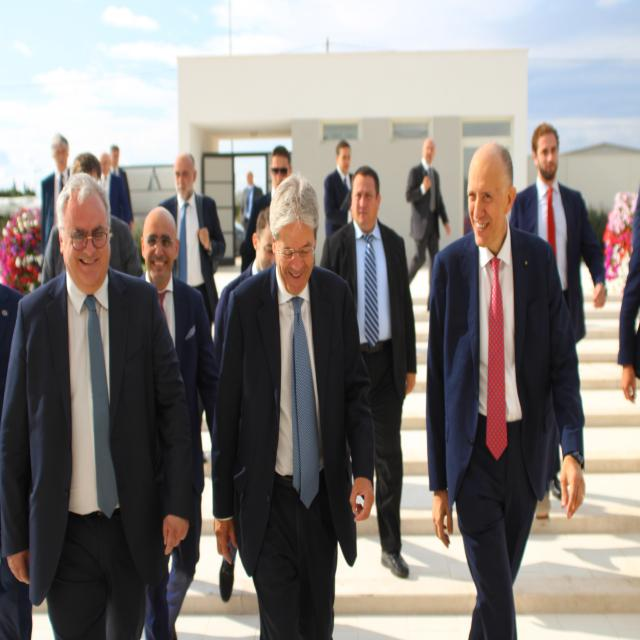body: (0, 170, 197, 639), (423, 139, 587, 640), (210, 169, 375, 640), (318, 165, 420, 580), (509, 121, 608, 501), (138, 205, 217, 640), (211, 203, 277, 605), (1, 276, 42, 640), (39, 154, 144, 286), (156, 150, 227, 336), (405, 137, 451, 311), (617, 177, 640, 402), (251, 148, 293, 262), (40, 133, 70, 265), (324, 142, 354, 238), (109, 146, 134, 235), (98, 152, 126, 222), (242, 171, 263, 243)
